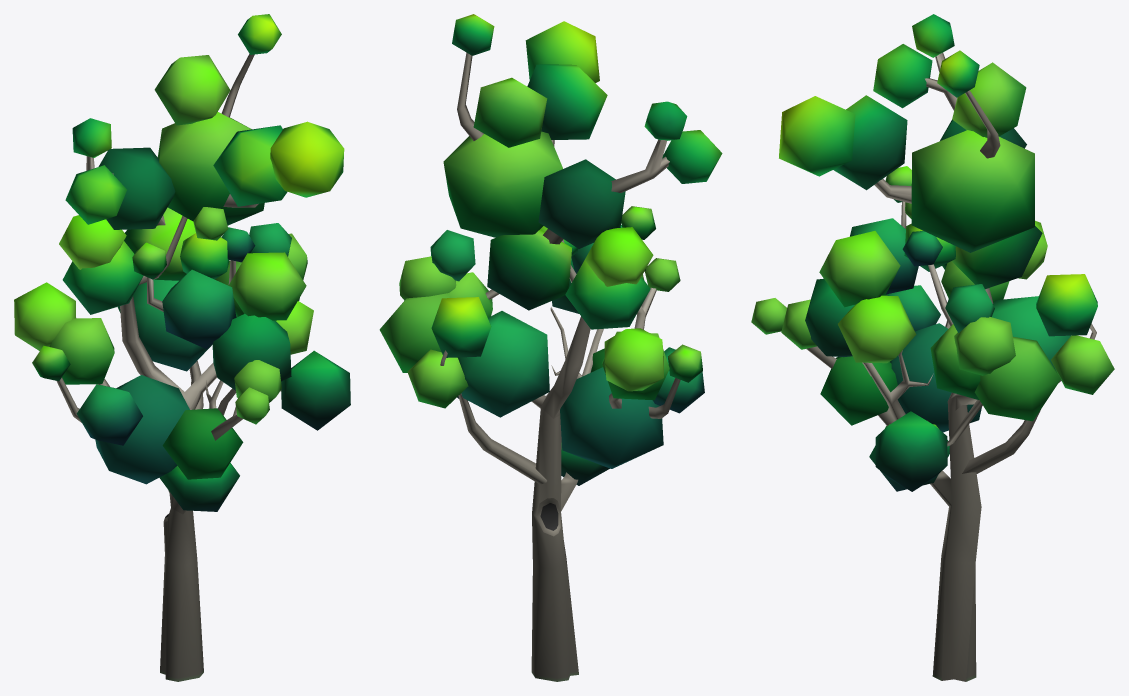
Rendered from Tree_1K.fbx.
The picture shows the model from 3 angles, left to right: view 1: azimuth 30°, elevation 25°; view 2: azimuth 150°, elevation 25°; view 3: azimuth 270°, elevation 25°; orthographic projection. The views are drawn at different scales.
Visible parts, largest first — view 1: Tree_1K; view 2: Tree_1K; view 3: Tree_1K.
Boxes of the visible parts, box(x1,y1,x2,y2) form: Tree_1K: box(14, 14, 350, 681); Tree_1K: box(379, 14, 722, 681); Tree_1K: box(751, 14, 1114, 681).
Bounding box in the file's own units: 5.73 × 11.89 × 5.94.
